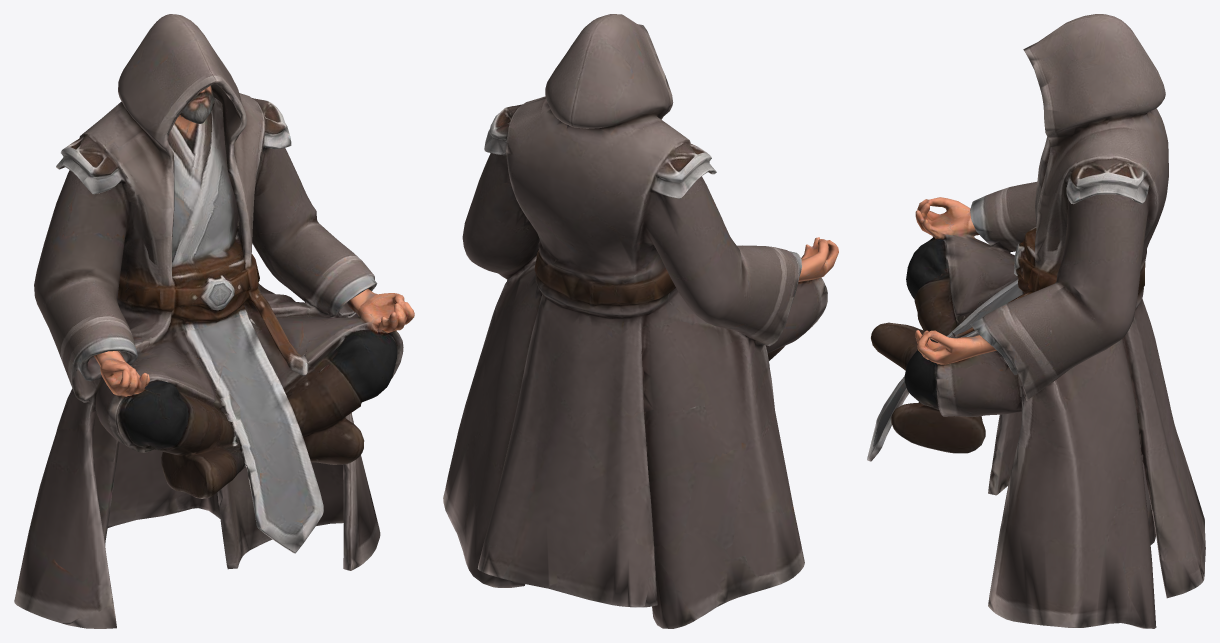
File: obi-wan-meditation.glb
3 renders of one model, left to right at view 1: azimuth 30°, elevation 25°; view 2: azimuth 150°, elevation 25°; view 3: azimuth 270°, elevation 25°, orthographic.
Visible parts, largest first — view 1: Meditation; view 2: Meditation; view 3: Meditation.
Part boxes in pixels (x1,y1,x2,y2): Meditation: (14,14,414,628); Meditation: (443,14,838,628); Meditation: (867,14,1205,628).
Bounding box in the file's own units: 1.21 × 1.9 × 1.02.
Materials: 1 (1 with a texture image).
